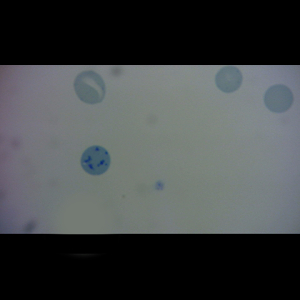aggregate reticulocyte: (79, 144, 113, 177)
erythrocyte: (262, 83, 295, 114)
punctate reticulocyte: (72, 70, 108, 106), (213, 65, 244, 94)
